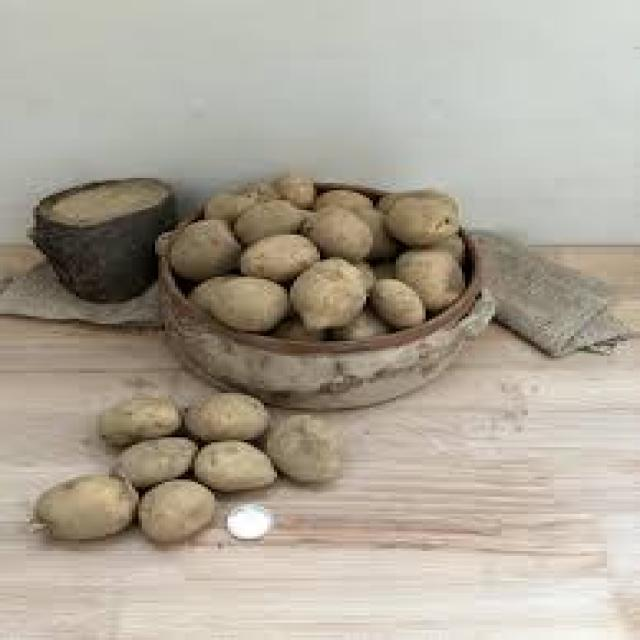Potato: (20, 464, 172, 550), (166, 263, 305, 352), (173, 270, 306, 342), (154, 214, 257, 285), (376, 189, 456, 263), (90, 392, 172, 432)
